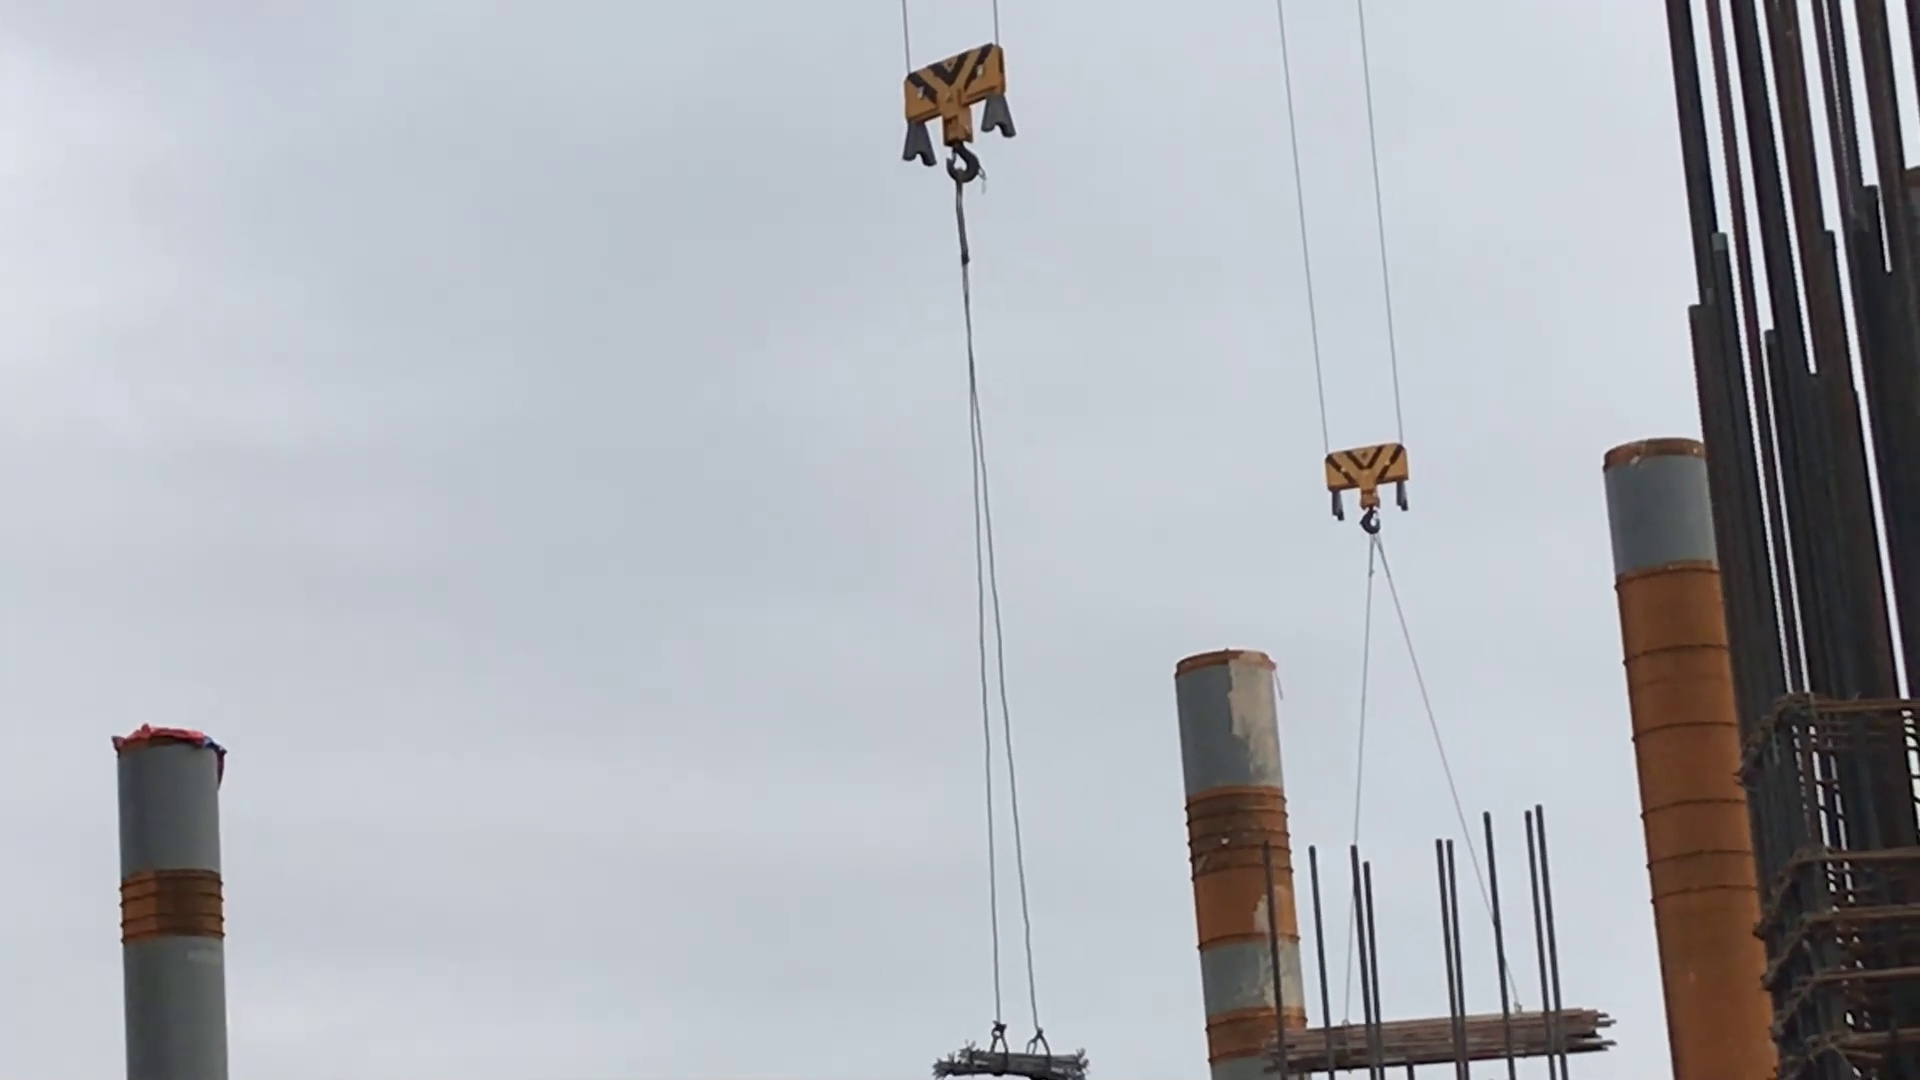hook: (893, 37, 1030, 212), (1313, 435, 1425, 559)
rebar: (922, 1033, 1106, 1080)
wood: (1262, 1002, 1625, 1080)
